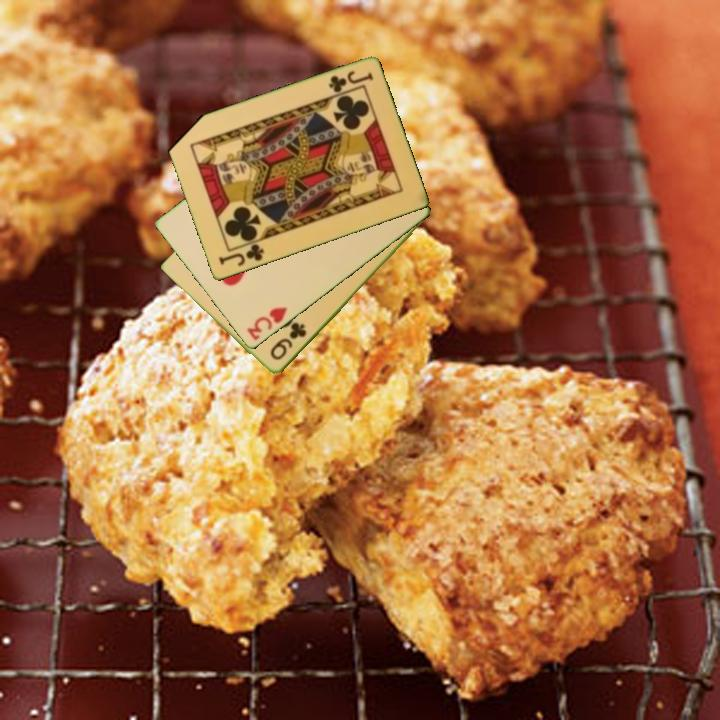3h: (243, 303, 290, 344)
9c: (267, 319, 310, 364)
Jc: (215, 240, 267, 270), (325, 68, 376, 96)
